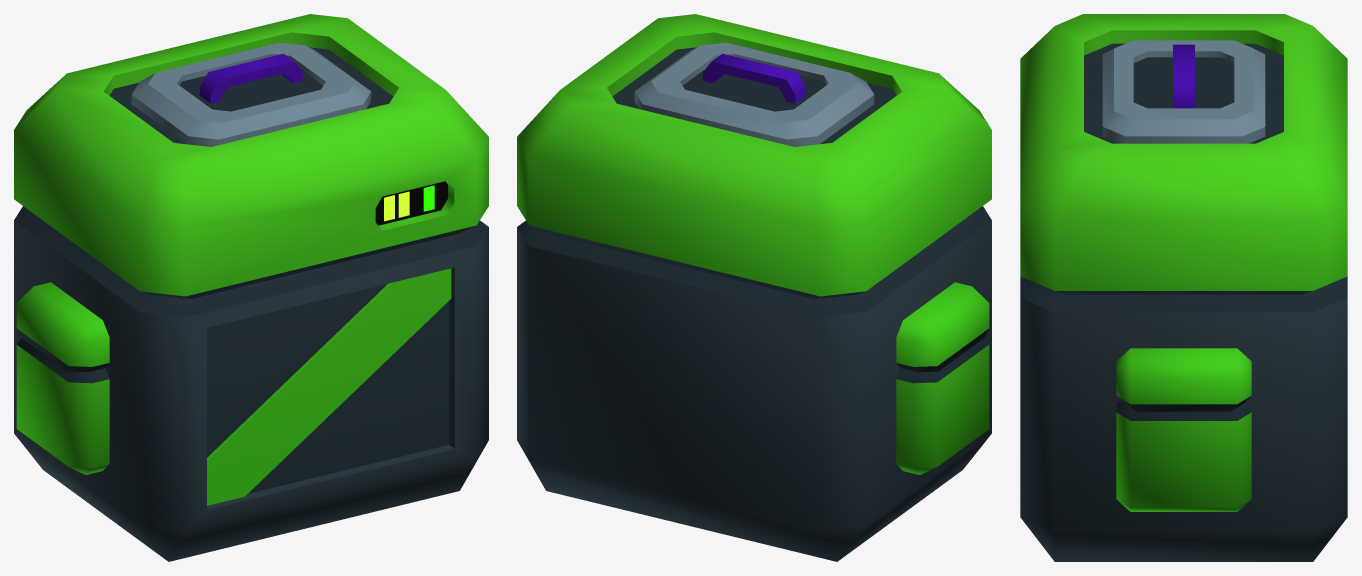
The model's file is Character4.fbx.
The picture shows the model from 3 angles, left to right: view 1: azimuth 30°, elevation 25°; view 2: azimuth 150°, elevation 25°; view 3: azimuth 270°, elevation 25°; orthographic projection. The views are drawn at different scales.
Visible parts, largest first — view 1: Bag_01_Green; view 2: Bag_01_Green; view 3: Bag_01_Green.
Part boxes in pixels (left/top/right/bottom): Bag_01_Green: left=14, top=14, right=488, bottom=561; Bag_01_Green: left=517, top=14, right=991, bottom=561; Bag_01_Green: left=1020, top=14, right=1347, bottom=561.
Size of the model in its own units: 43.45 by 41.1 by 28.66.
Materials: 1 (1 with a texture image).
